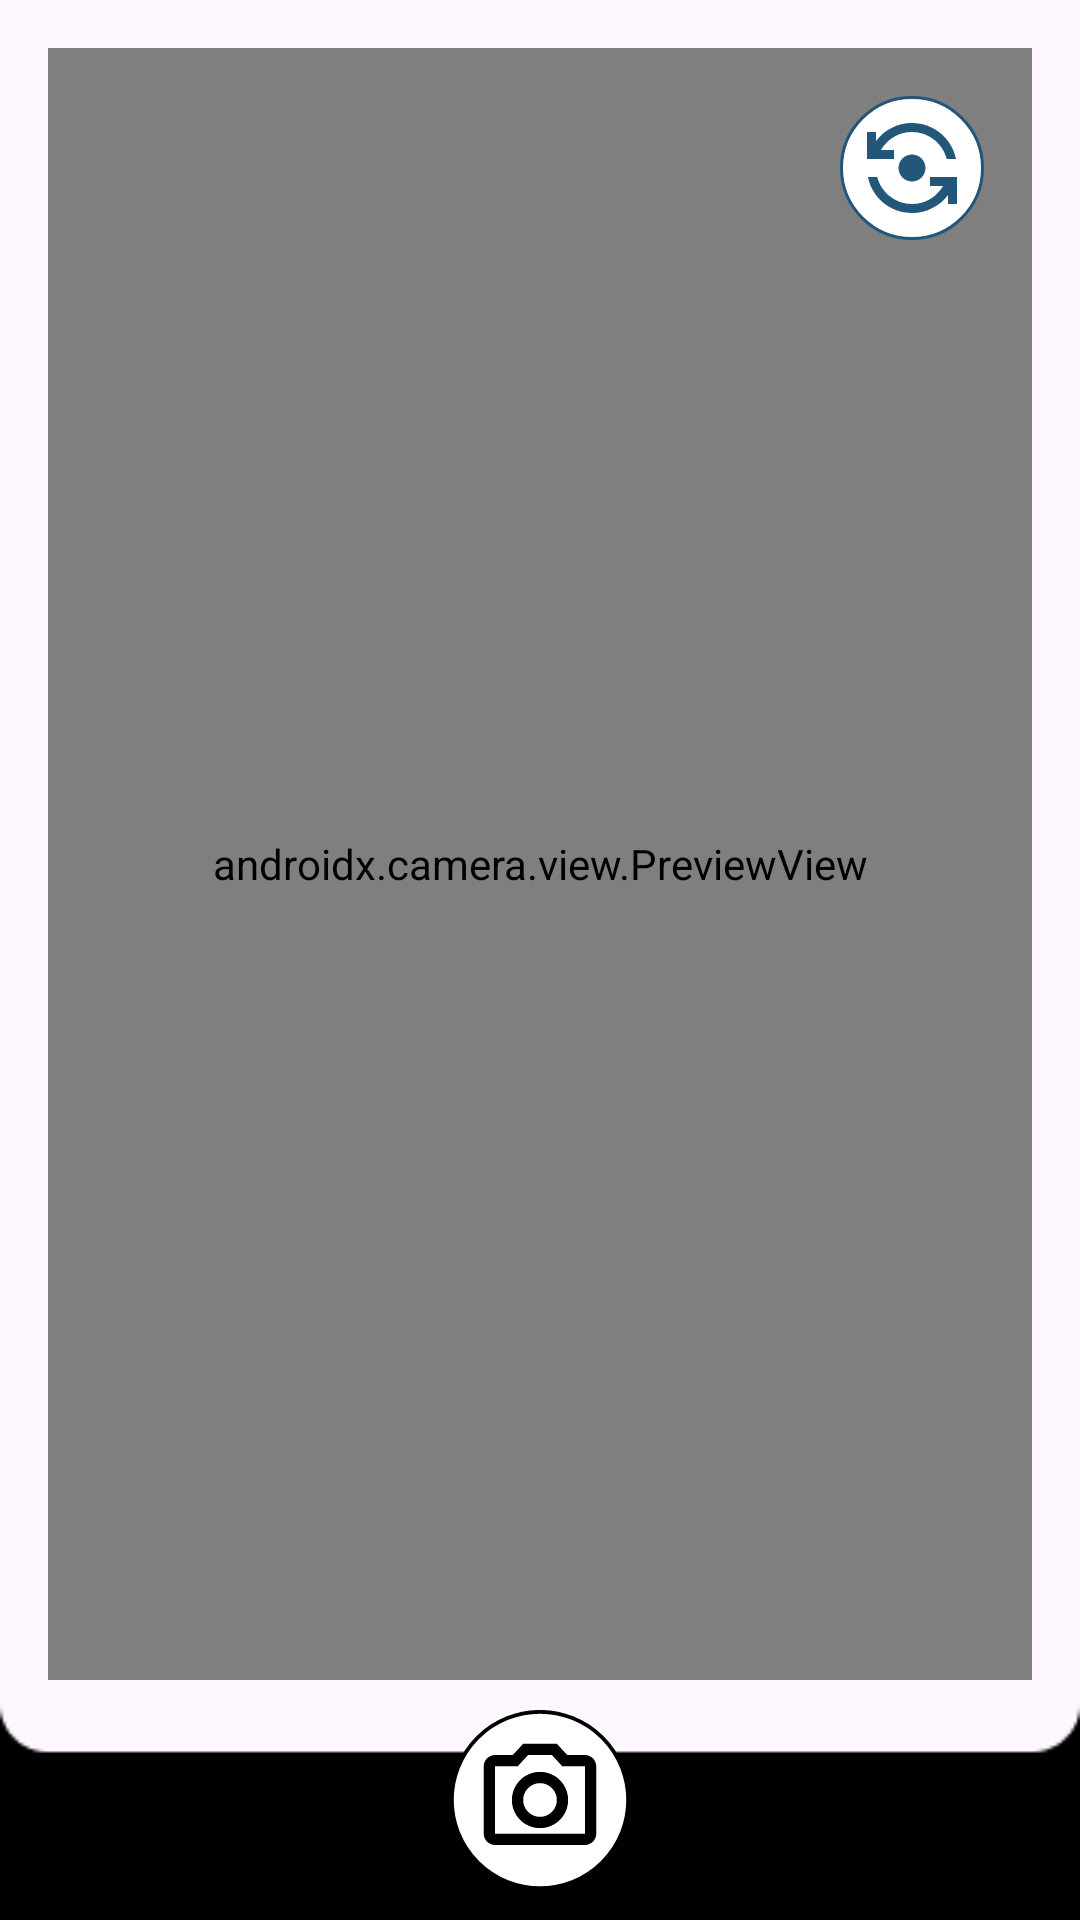

Screen size 1080px×1920px. Icon name, then its box in pixels as Rect(x1, y1, x2, y2):
capture: Rect(453, 1713, 627, 1887)
flip: Rect(840, 96, 984, 240)
